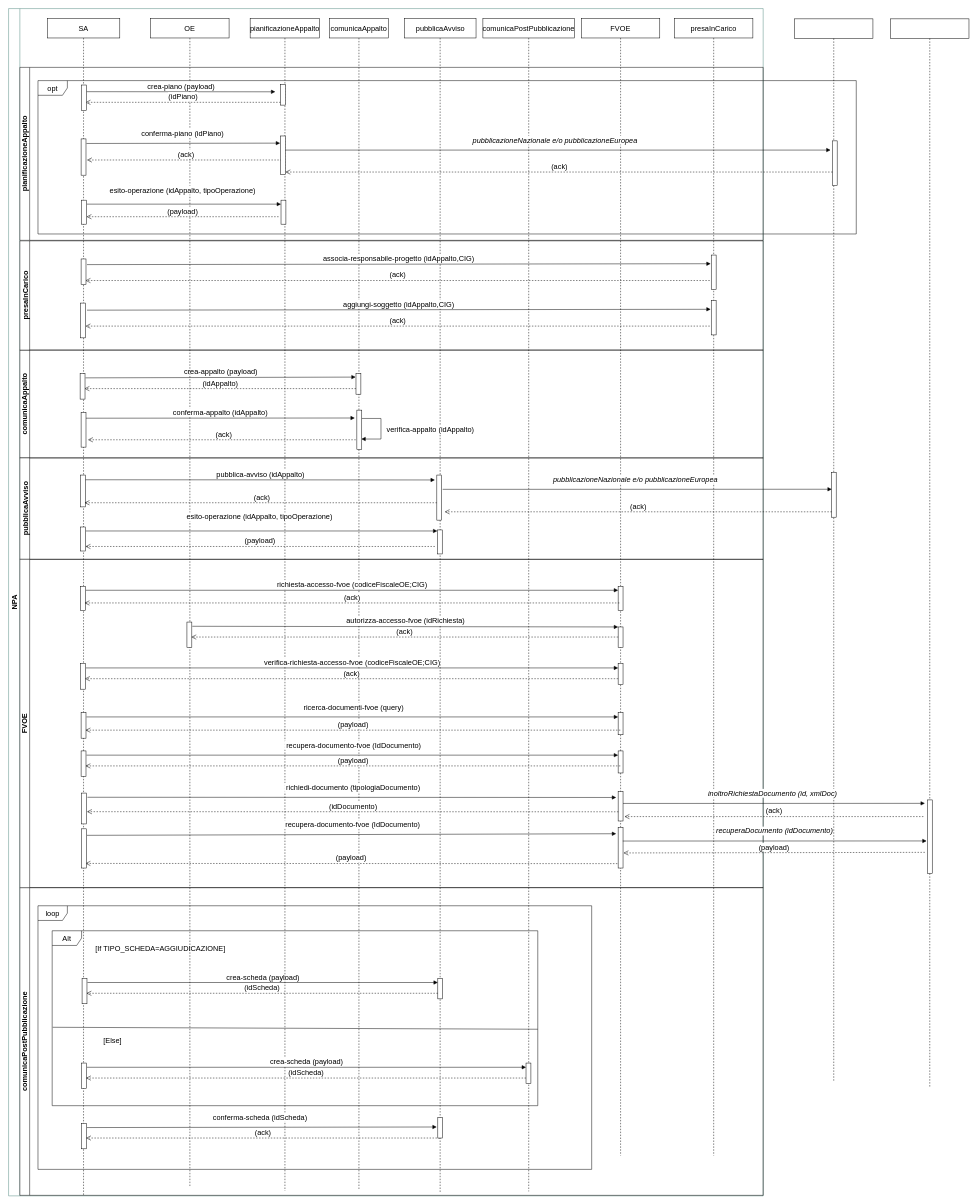
The diagram is 978 pixels wide and 1204 high, and some of its shapes have lost their labels. Here are the shapes that lost their labels. From the top down, the box of each, then its label:
(794, 18, 873, 1082): PPL/TED
(890, 18, 969, 1087): ENTI CERTIFICATORI
